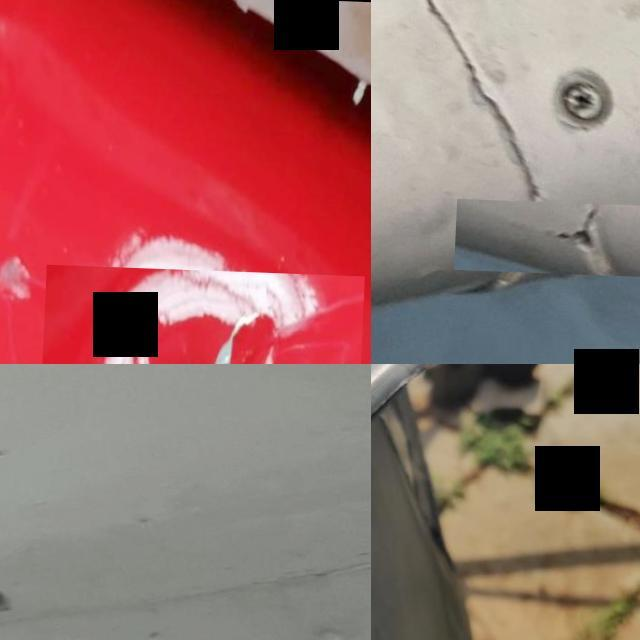Crack: (41, 263, 366, 364), (457, 197, 640, 275)
Missing_Fastener: (0, 582, 18, 612)
